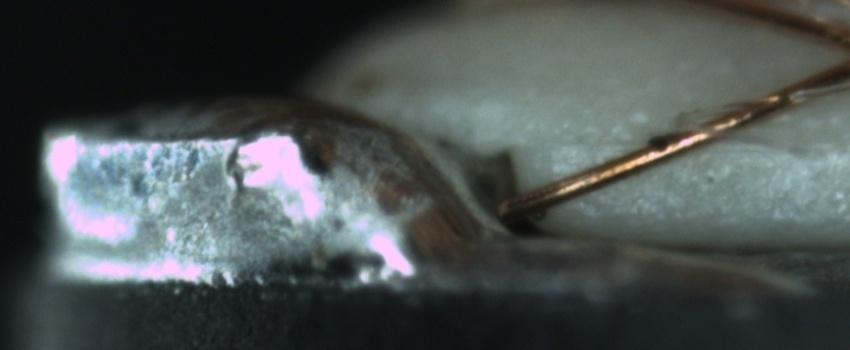DL: (550, 112, 843, 175)
